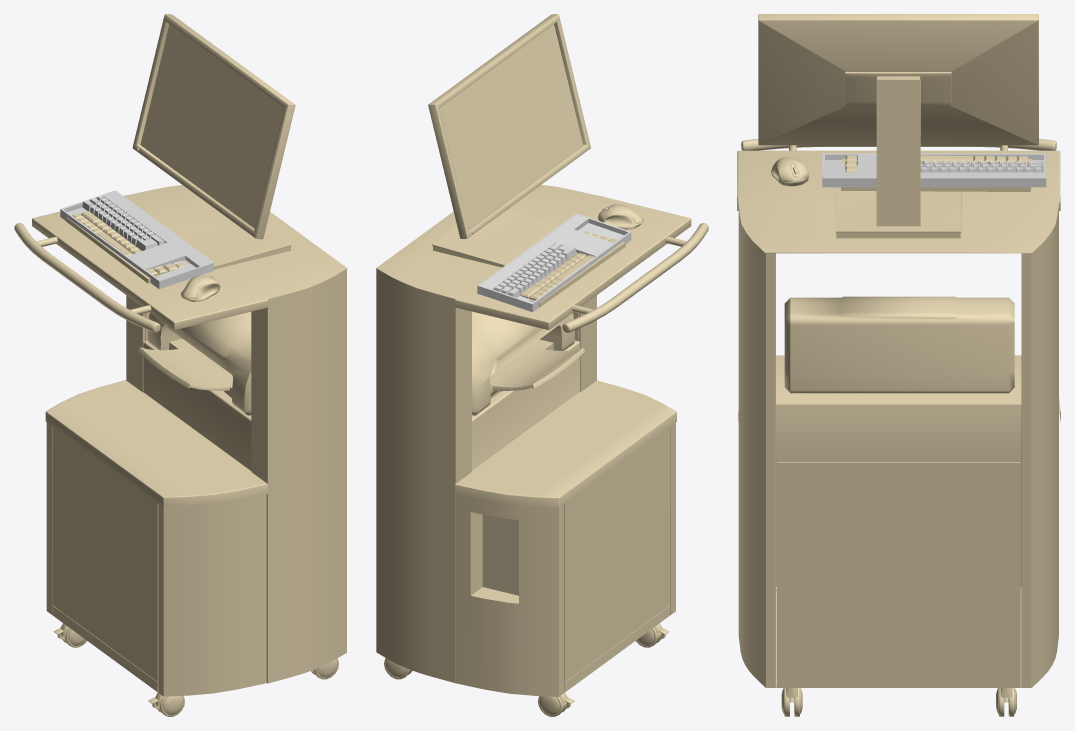
The model's file is Station_Computer_MergedUVsOneMaterial.FBX.
3 renders of one model, left to right at view 1: azimuth 30°, elevation 25°; view 2: azimuth 150°, elevation 25°; view 3: azimuth 270°, elevation 25°, orthographic. The views are drawn at different scales.
Parts seen in each view (by area): view 1: Biodex_Station_Chassis, Box004; view 2: Biodex_Station_Chassis, Box004; view 3: Biodex_Station_Chassis, Box004.
Boxes of the visible parts, bbox=[...] form: Biodex_Station_Chassis: bbox=[14, 14, 347, 716]; Box004: bbox=[60, 190, 214, 289]; Biodex_Station_Chassis: bbox=[376, 14, 708, 716]; Box004: bbox=[477, 213, 631, 312]; Biodex_Station_Chassis: bbox=[737, 14, 1060, 716]; Box004: bbox=[822, 153, 1046, 187].
Size of what is drawn, in the model's own units: 56.61 by 149 by 65.06.
